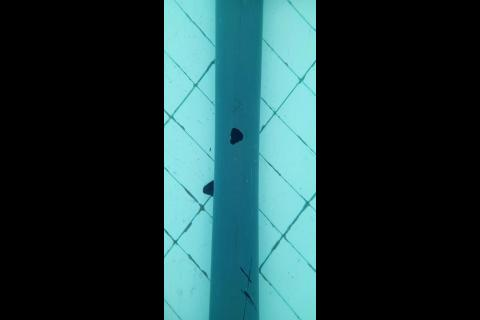kebocoran: (229, 126, 244, 147)
keretakan: (240, 258, 257, 320)
